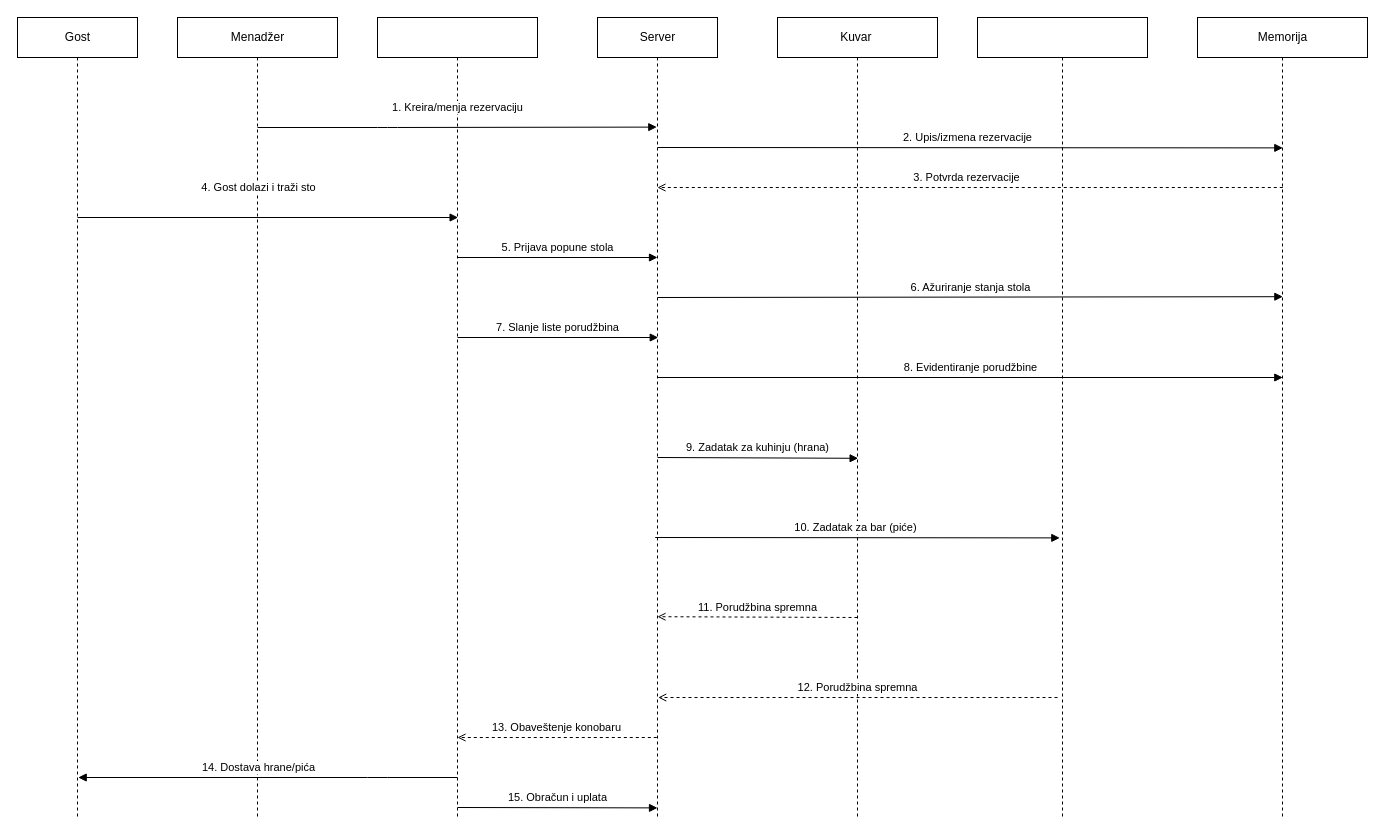
Image size: 1385x835. Some labels were removed from this diagram. Each missing label, with the box of its shape:
Barmen: (976, 16, 1148, 818)
Konobar: (376, 16, 538, 818)
